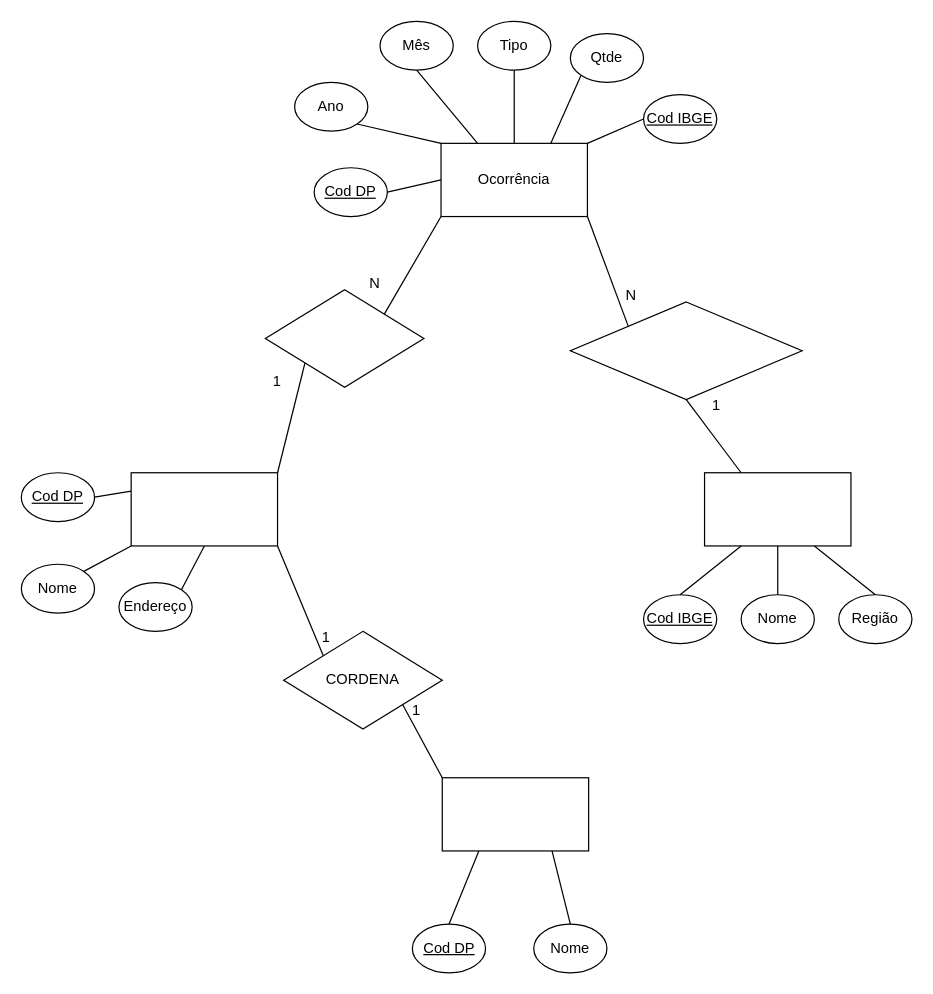
Some shapes in this 933 by 994 pixel diagram are drawn without their labels. The centre of each missing label's shape, as x and y in pixels:
"Delegacia de Policia" belongs at [204,509].
"Município" belongs at [777,509].
"POSSUI_REGISTRO_DE" belongs at [685,350].
"REGISTRA" belongs at [344,338].
"Responsável" belongs at [515,814].
